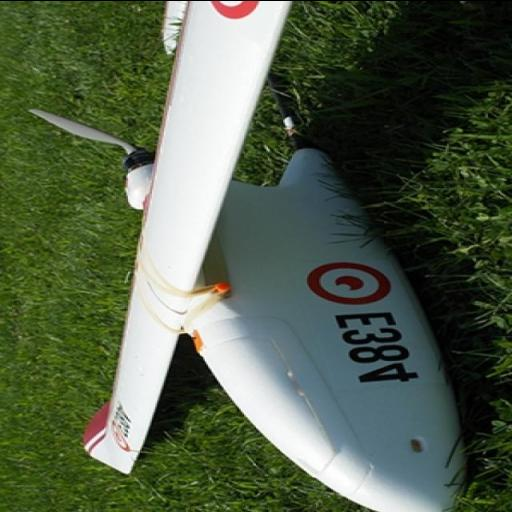uav: (34, 1, 475, 509)
